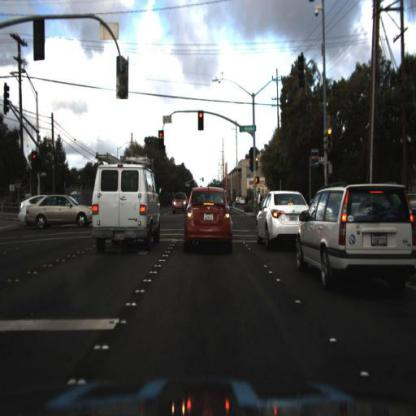biker: (253, 185, 267, 228)
car: (297, 181, 416, 301), (87, 158, 164, 247), (183, 182, 235, 253), (258, 185, 307, 254), (25, 189, 96, 236), (24, 195, 97, 237), (256, 181, 300, 250), (16, 194, 48, 226), (14, 194, 30, 234), (171, 191, 189, 219), (171, 192, 186, 215)
trafficLight: (159, 131, 165, 147)
trafficLight-Red: (326, 124, 335, 153), (31, 147, 38, 169), (327, 124, 336, 141), (252, 155, 260, 170), (254, 156, 261, 173), (199, 113, 204, 134)
trafficLight-RedLeft: (31, 148, 40, 178)
